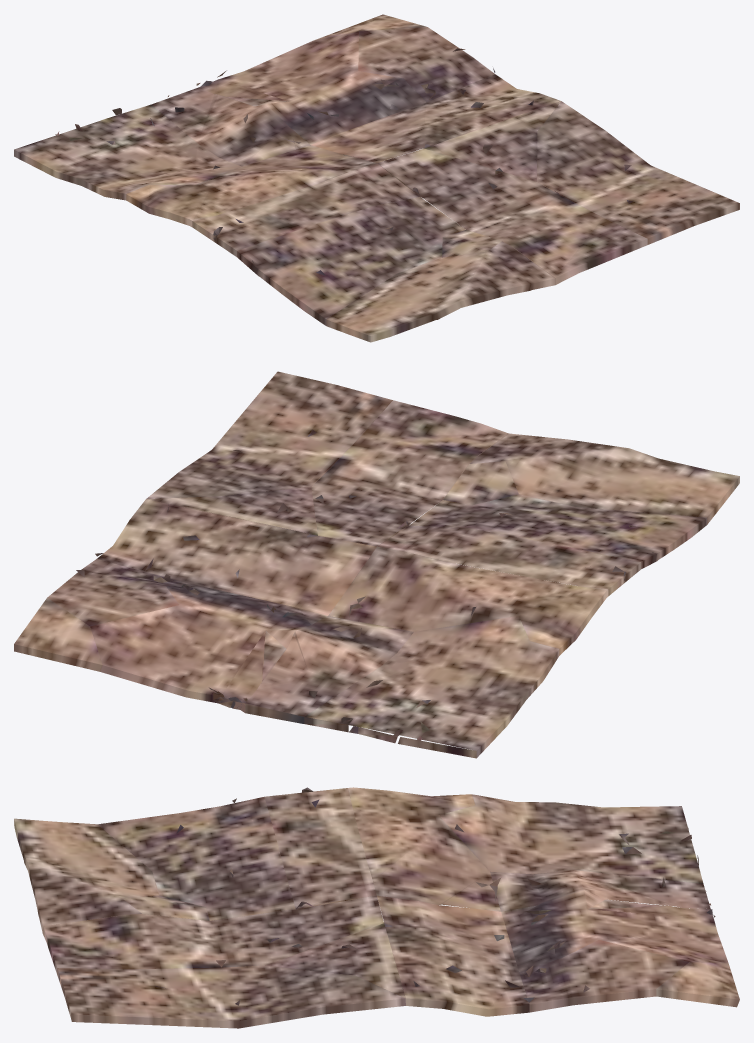
3 renders of one model, top to bottom at view 1: azimuth 30°, elevation 25°; view 2: azimuth 150°, elevation 25°; view 3: azimuth 270°, elevation 25°, orthographic. The views are drawn at different scales.
Parts seen in each view (by area): view 1: Mesh_0; view 2: Mesh_0; view 3: Mesh_0.
Boxes of the visible parts, <box> form: Mesh_0: <box>14,14,739,342</box>; Mesh_0: <box>14,371,739,758</box>; Mesh_0: <box>14,787,739,1028</box>.
Bounding box in the file's own units: 532 × 52.12 × 659.
Materials: 1 (1 with a texture image).
